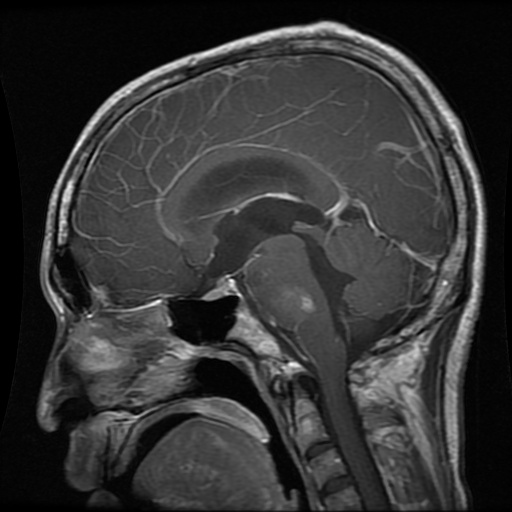glioma: (273, 284, 318, 328)
